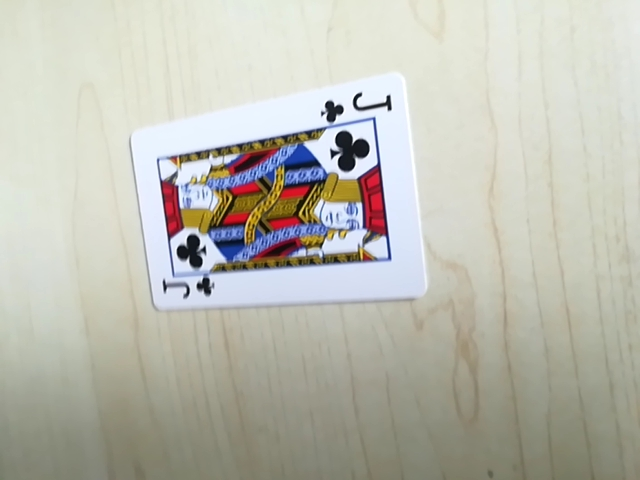mh j: (318, 89, 399, 127), (156, 270, 213, 307)
